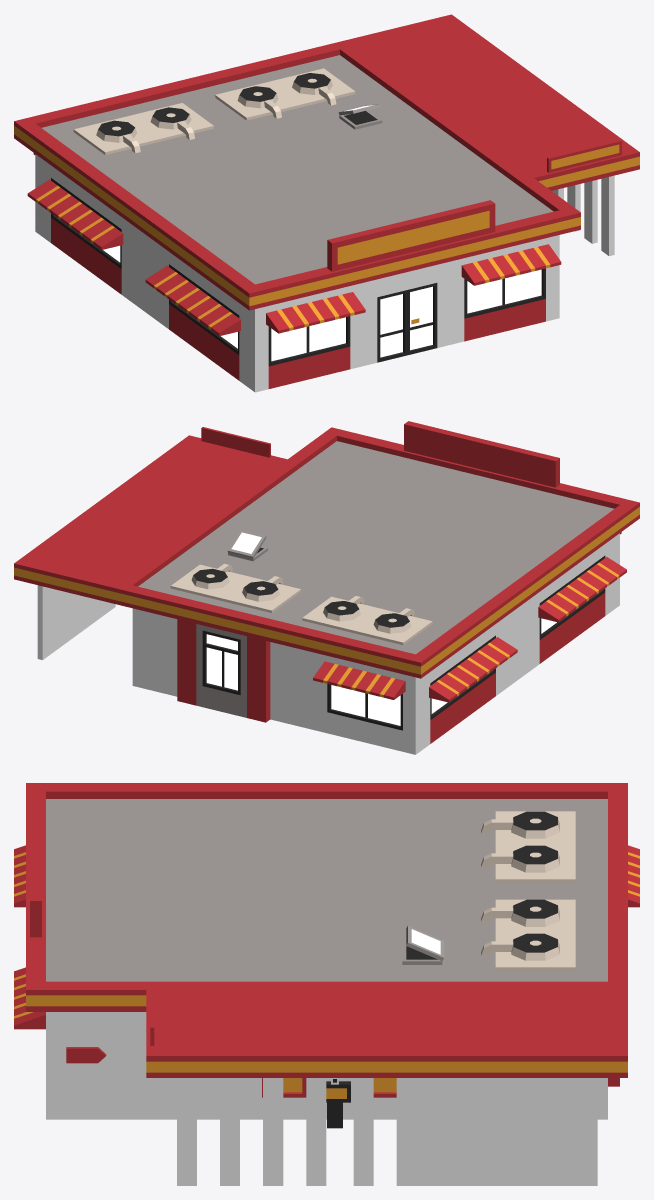
Rendered from buildings-building-burger-joint.glb.
3 views of the same model, one above another, from view 1: azimuth 30°, elevation 25°; view 2: azimuth 150°, elevation 25°; view 3: azimuth 270°, elevation 25° (orthographic). The views are drawn at different scales.
Visible parts, largest first — view 1: building-burger-joint; view 2: building-burger-joint; view 3: building-burger-joint.
Boxes of the visible parts, bbox=[...] form: building-burger-joint: bbox=[14, 14, 639, 392]; building-burger-joint: bbox=[14, 421, 639, 754]; building-burger-joint: bbox=[14, 783, 639, 1185].
Size of the model in its own units: 16.4 by 4.8 by 15.6.
